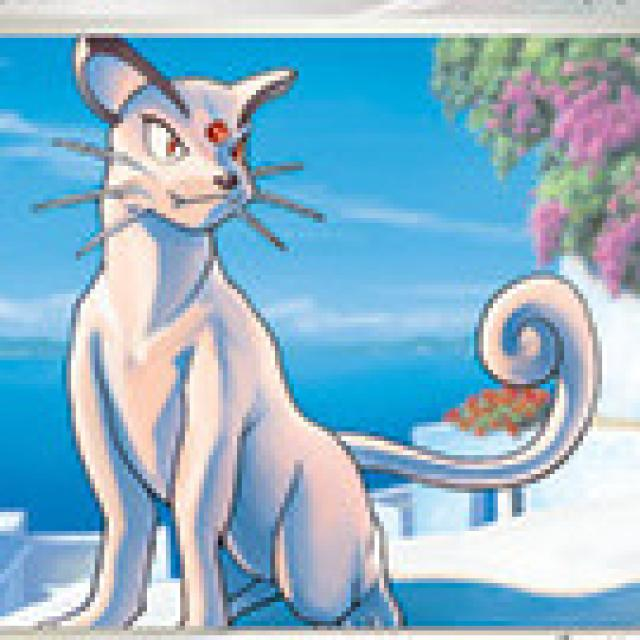Persian: (72, 42, 436, 635)
